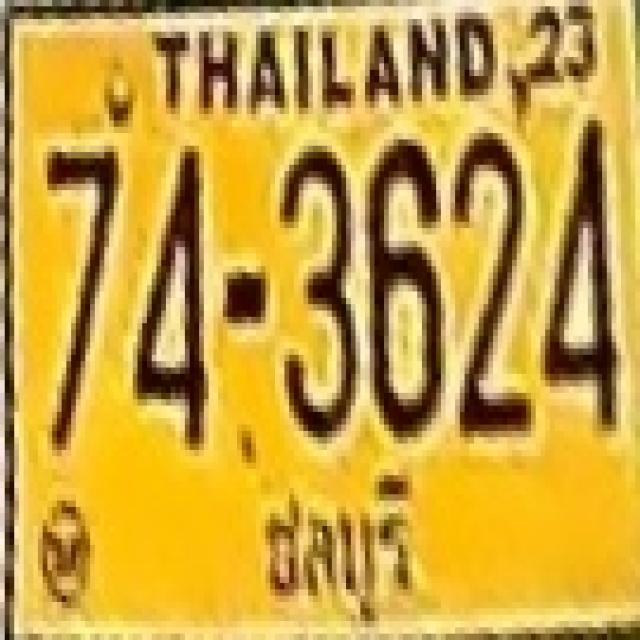2: (448, 130, 524, 396)
3: (280, 140, 356, 438)
4: (540, 117, 616, 428), (130, 140, 207, 443), (540, 117, 616, 358)
6: (365, 136, 441, 434)
7: (43, 146, 119, 431), (43, 146, 119, 374), (43, 149, 119, 352), (43, 149, 119, 326)
CBI: (246, 464, 412, 636)
